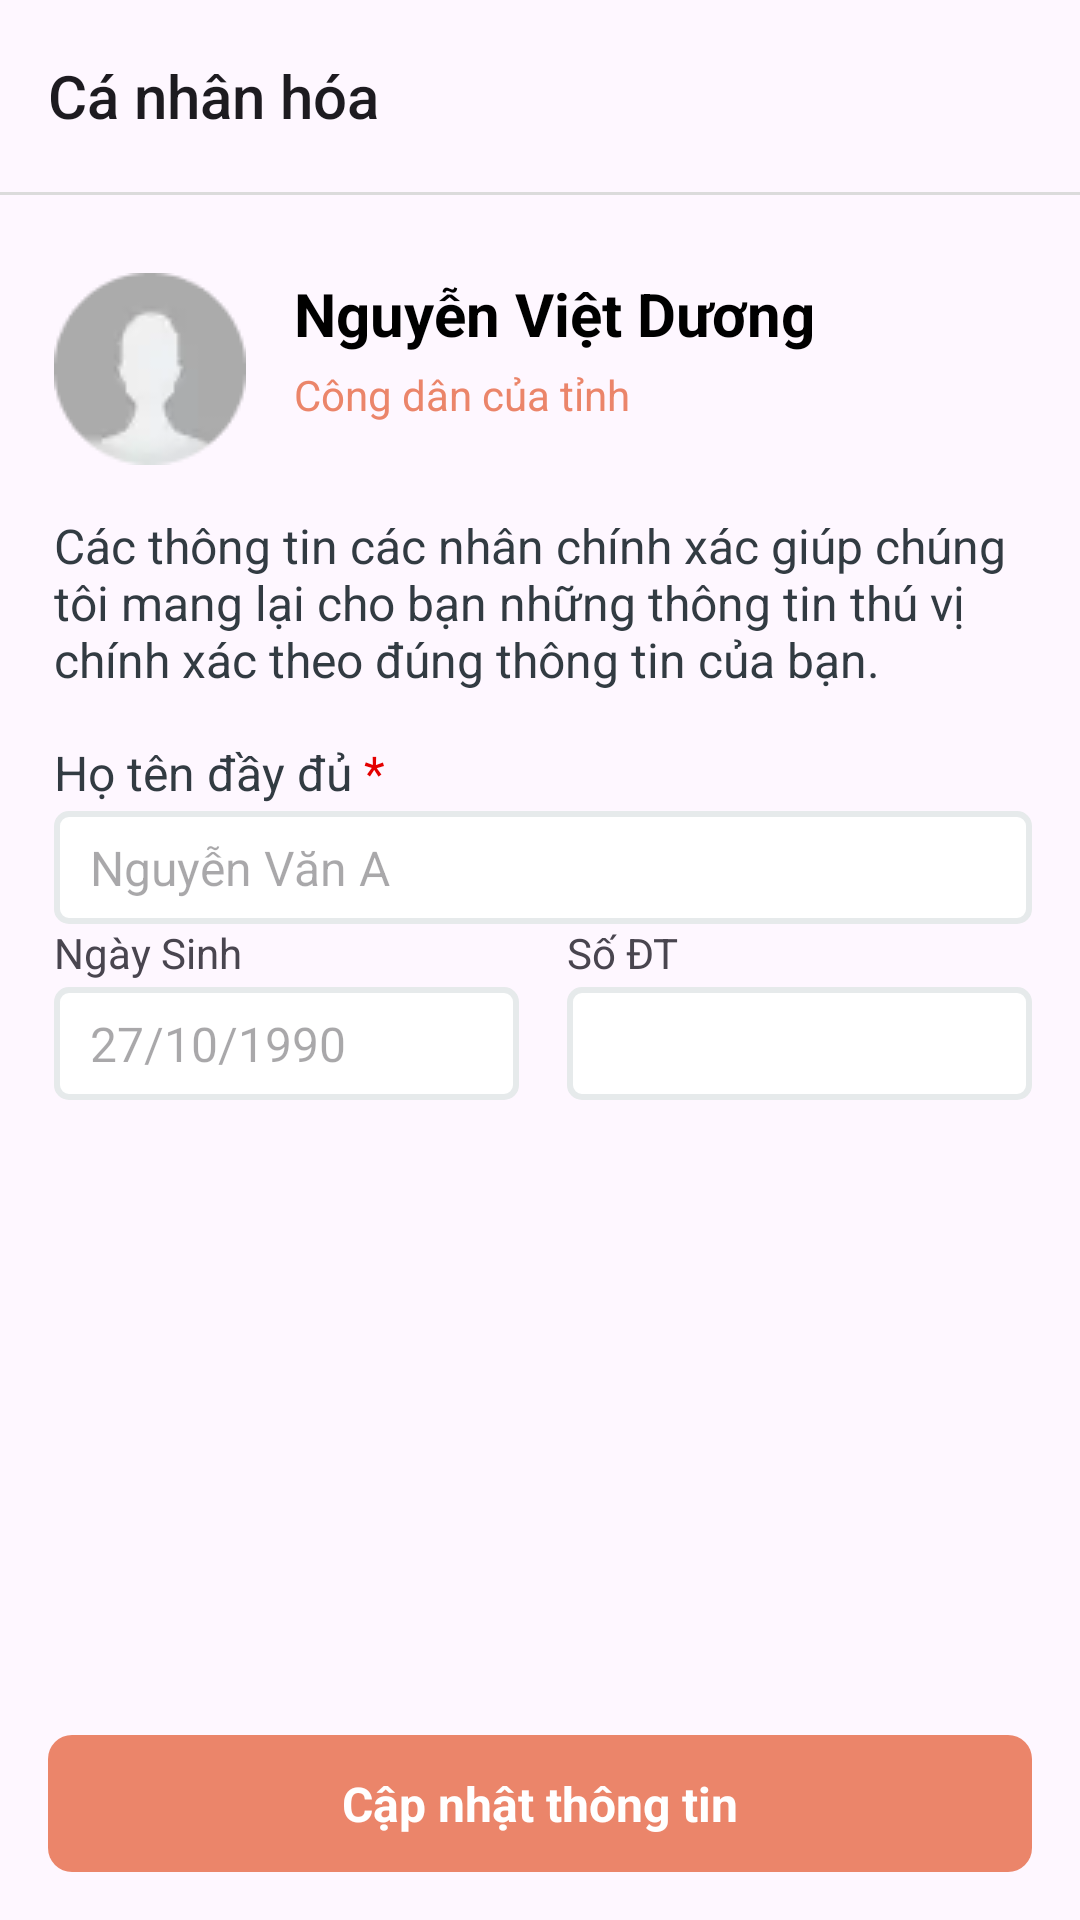

Icons on this 1080px×1920px Android screen, each with its box as box(x1, y1, x2, y2):
person: box(54, 273, 246, 465)
